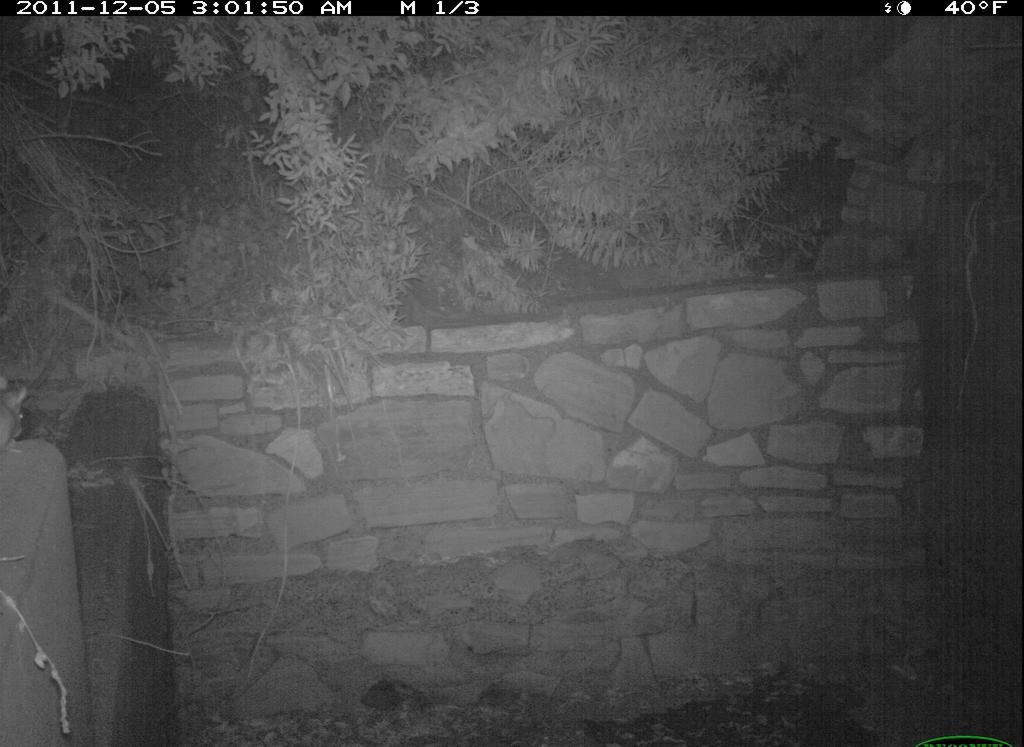rodent: (1, 376, 39, 466)
